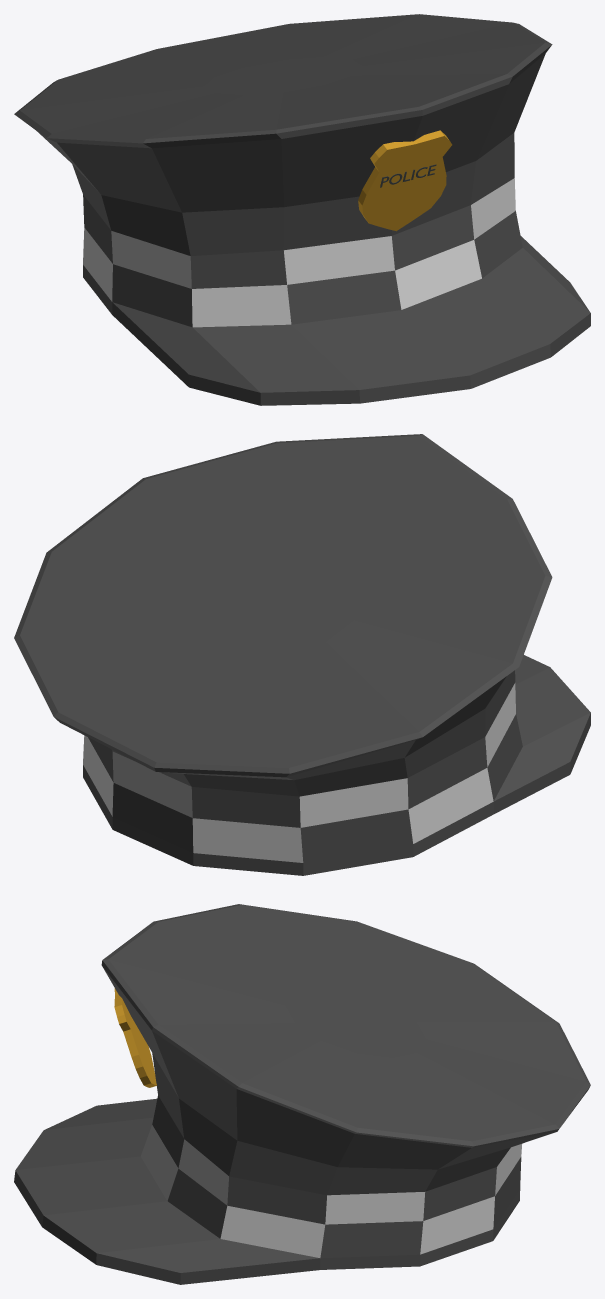
File: police.fbx
3 views of the same model, one above another, from view 1: azimuth 30°, elevation 25°; view 2: azimuth 150°, elevation 25°; view 3: azimuth 270°, elevation 25° (orthographic). The views are drawn at different scales.
Parts seen in each view (by area): view 1: PoliceHat, Badge; view 2: PoliceHat; view 3: PoliceHat, Badge.
Part boxes in pixels (bbox=[...]): PoliceHat: bbox=[14, 14, 590, 405]; Badge: bbox=[358, 130, 452, 231]; PoliceHat: bbox=[14, 434, 590, 875]; PoliceHat: bbox=[14, 904, 590, 1284]; Badge: bbox=[114, 988, 156, 1087].
Size of the model in its own units: 22.9 by 12.26 by 26.58.
